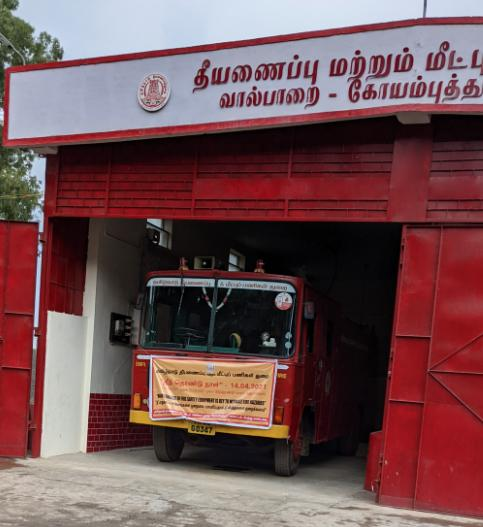Fire-engine: (133, 257, 357, 466)
